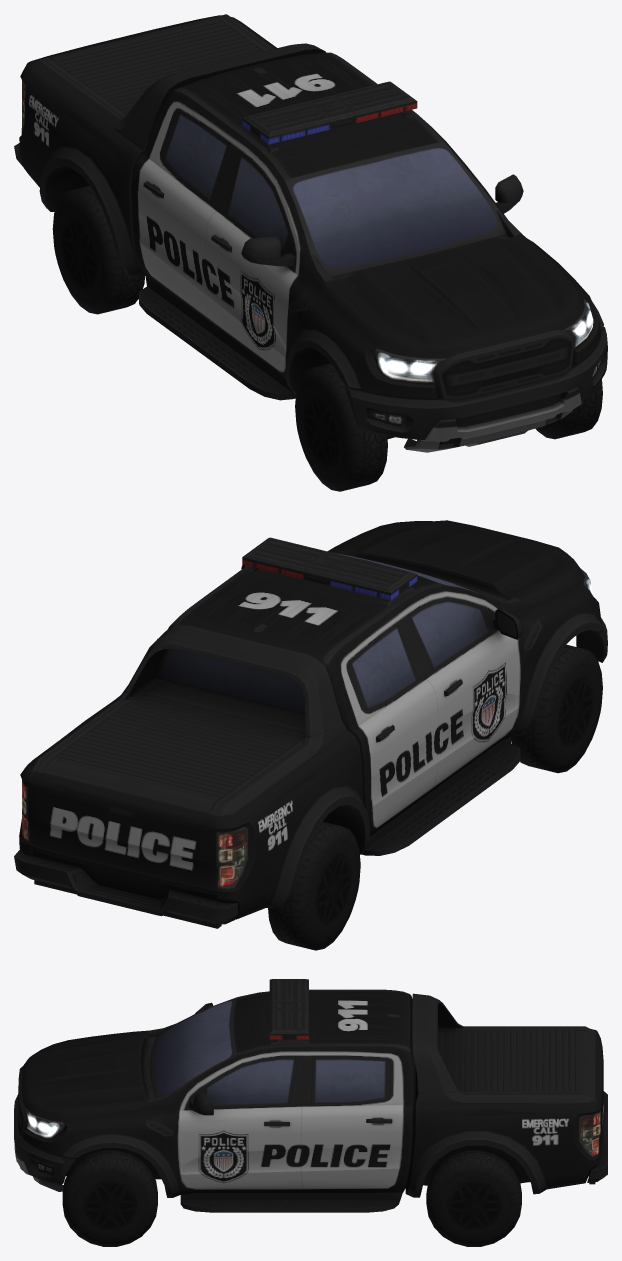
3 views of the same model, one above another, from view 1: azimuth 30°, elevation 25°; view 2: azimuth 150°, elevation 25°; view 3: azimuth 270°, elevation 25° (orthographic). The views are drawn at different scales.
Parts seen in each view (by area): view 1: Ford_Raptor_BASE__0; view 2: Ford_Raptor_BASE__0; view 3: Ford_Raptor_BASE__0.
Part boxes in pixels (<box>): Ford_Raptor_BASE__0: <box>14,14,607,491</box>; Ford_Raptor_BASE__0: <box>14,520,607,950</box>; Ford_Raptor_BASE__0: <box>14,979,607,1246</box>.
Bounding box in the file's own units: 83.82 × 75.88 × 207.
Materials: 1 (1 with a texture image).
